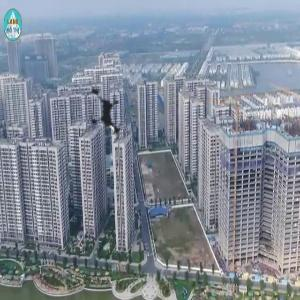drone: (58, 70, 149, 161)
